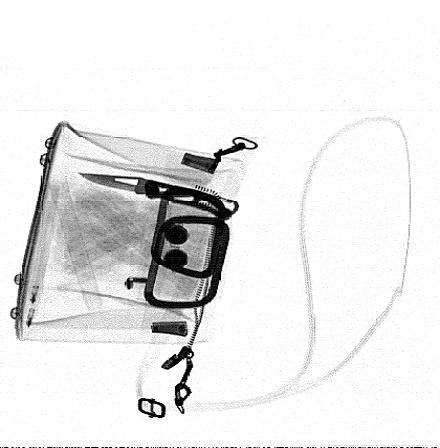Knife: (78, 172, 239, 219)
